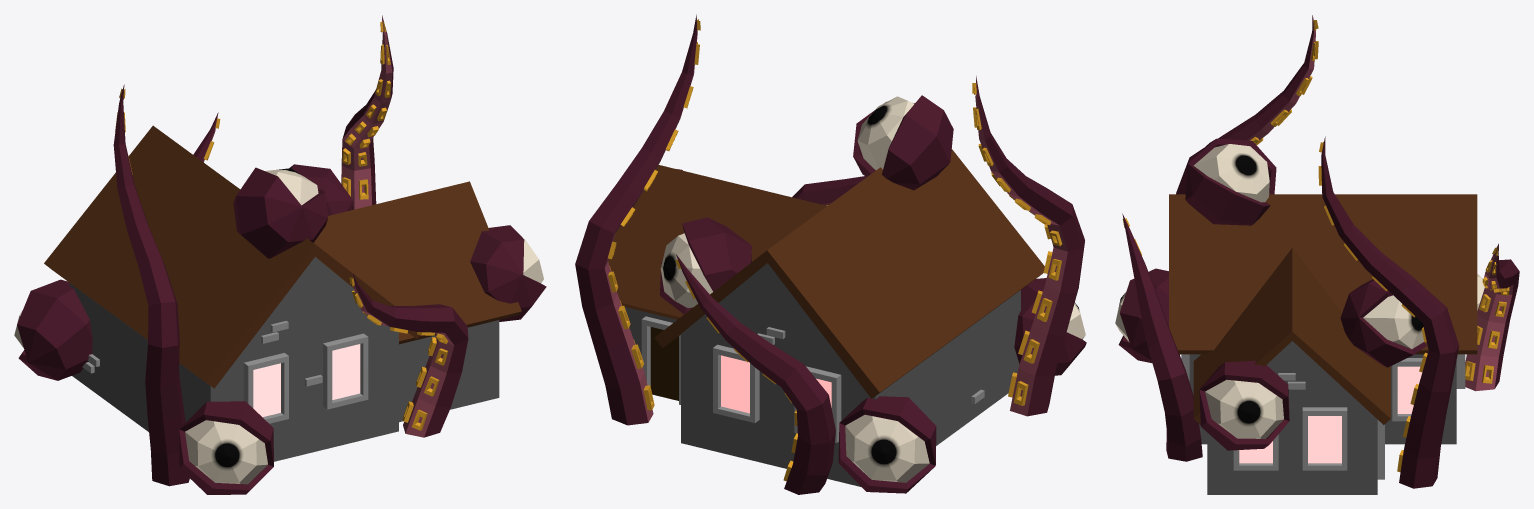
File: Build_3_Tentacles.fbx
3 renders of one model, left to right at view 1: azimuth 30°, elevation 25°; view 2: azimuth 150°, elevation 25°; view 3: azimuth 270°, elevation 25°, orthographic. The views are drawn at different scales.
Visible parts, largest first — view 1: No_Madness.020; view 2: No_Madness.020; view 3: No_Madness.020.
Boxes of the visible parts, x1,y1,x2,y2 form: No_Madness.020: (14, 15, 546, 494); No_Madness.020: (575, 14, 1086, 494); No_Madness.020: (1115, 15, 1519, 494).
Size of the model in its own units: 5.79 by 4.74 by 5.13.
